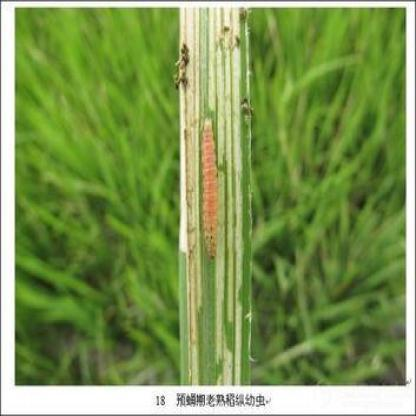leaf-folder: (195, 110, 230, 266)
